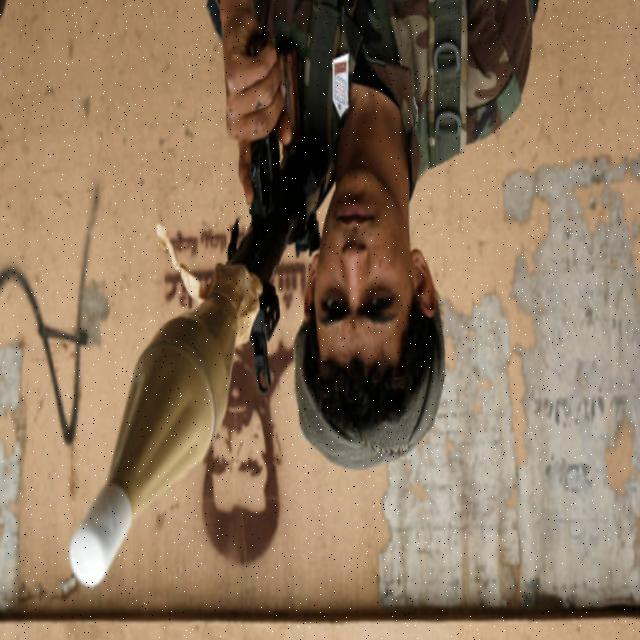bazooka: (59, 51, 357, 614)
